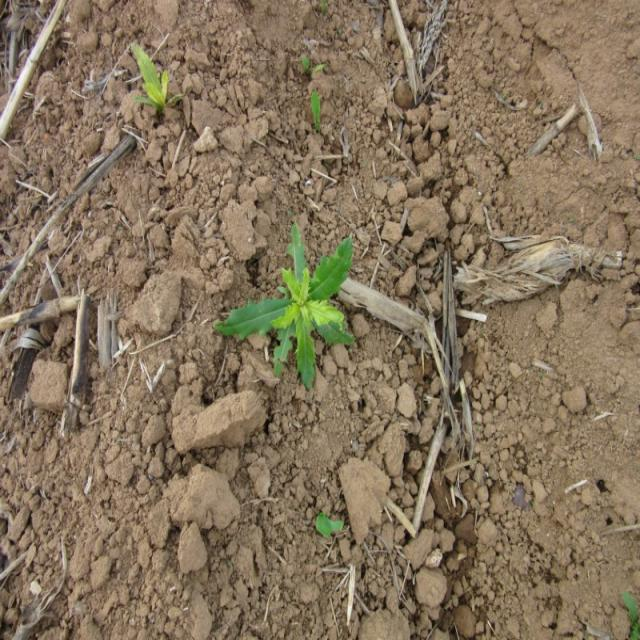cs: (214, 220, 359, 394)
